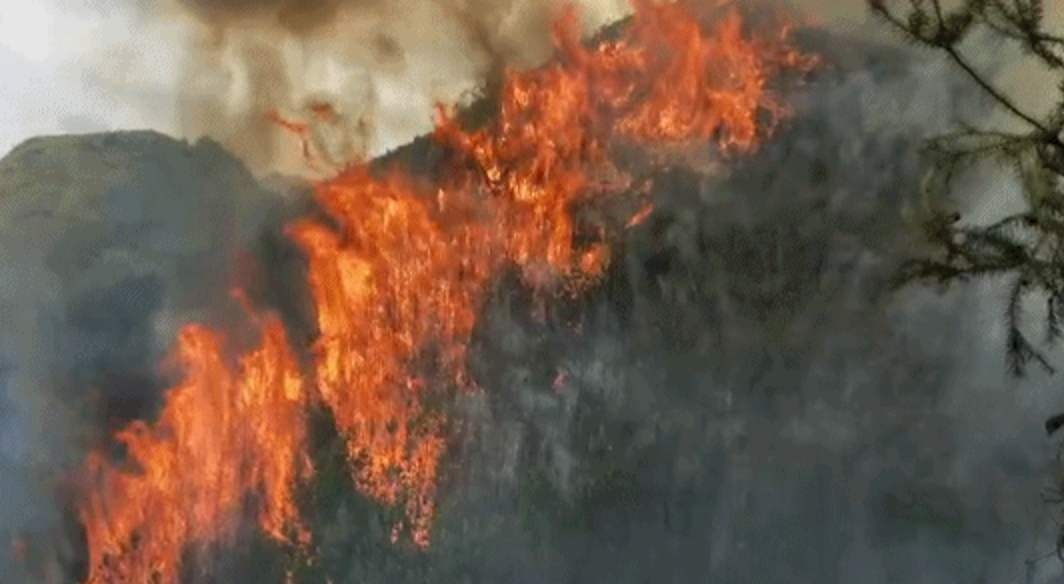fire: (57, 1, 779, 580)
